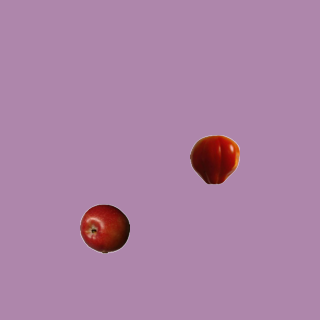Apple Braeburn: (79, 203, 129, 253)
Tomato 1: (189, 134, 239, 184)
